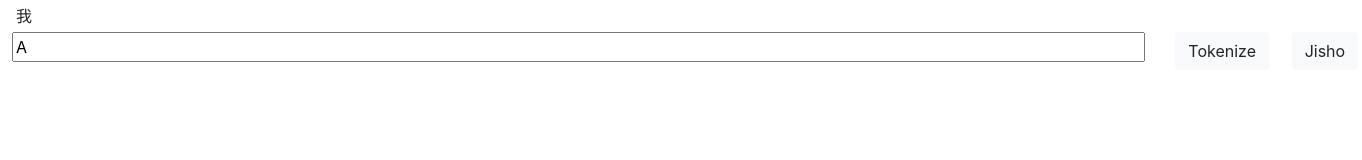
KanjiList › append kanji to search on click
Click the text "我" at x=24, y=16, box [16,6,32,26]
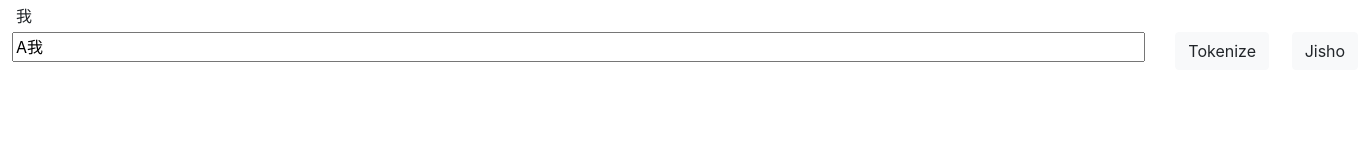
Expected: the field holds "A我", [12,32,1145,62]
